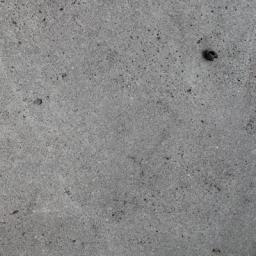FOD: (201, 43, 222, 68)
